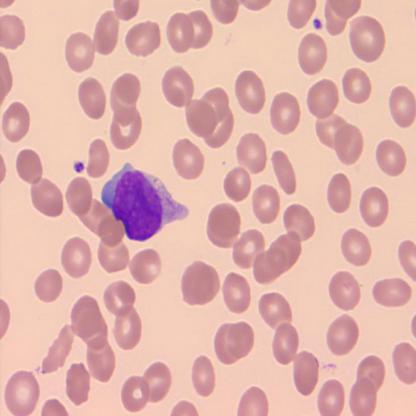Blast: (98, 159, 191, 244)
